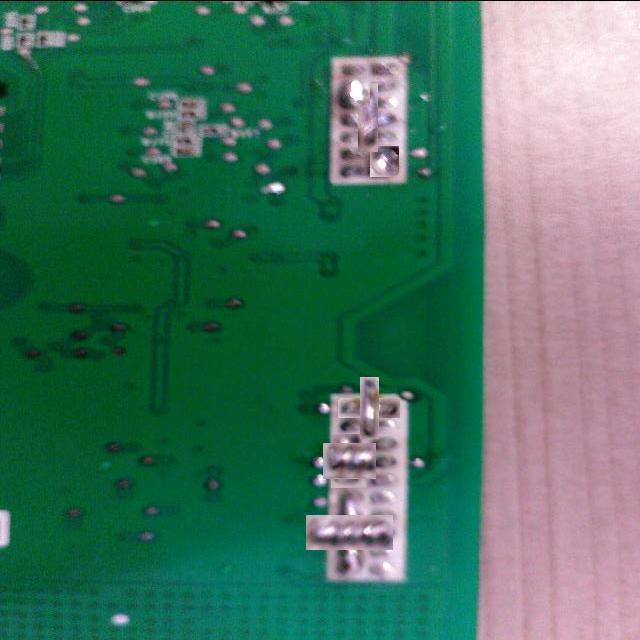Short_circuit: (320, 502, 380, 563), (327, 438, 372, 484), (346, 95, 390, 140), (348, 388, 389, 429), (334, 72, 370, 107), (370, 146, 399, 177)
